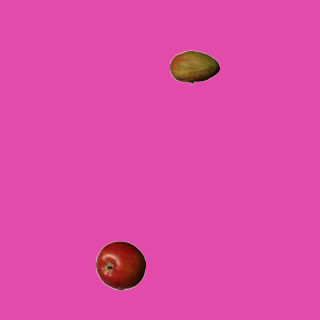Apple Braeburn: (95, 240, 145, 290)
Papaya: (169, 42, 219, 92)
